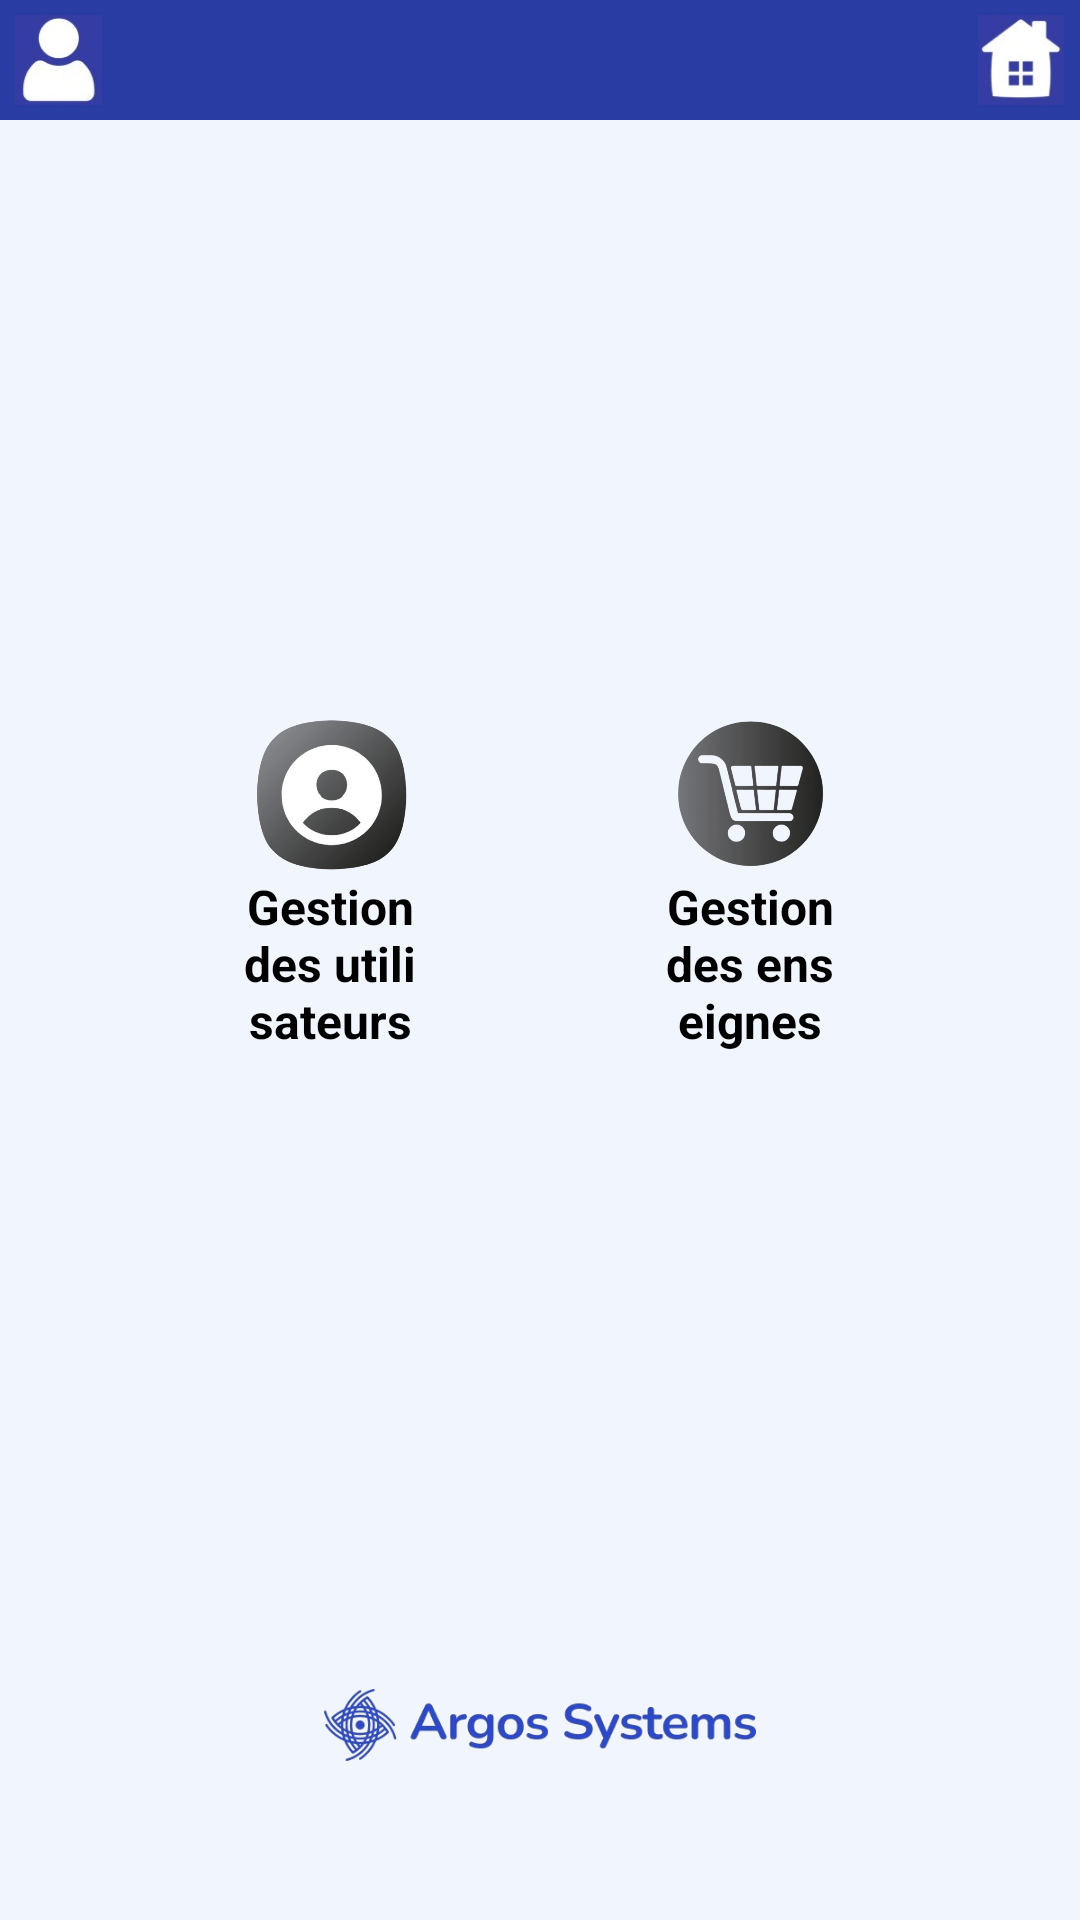

Icons on this 1080 × 1920 Android screen, each with its box as detection(x1, y1, x2, y2):
home: detection(981, 19, 1061, 99)
user: detection(22, 18, 95, 102)
user management: detection(257, 720, 407, 870)
